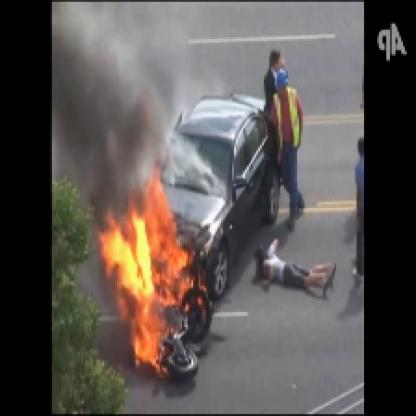Fire: (102, 156, 214, 384)
Smoke: (58, 4, 174, 167)
